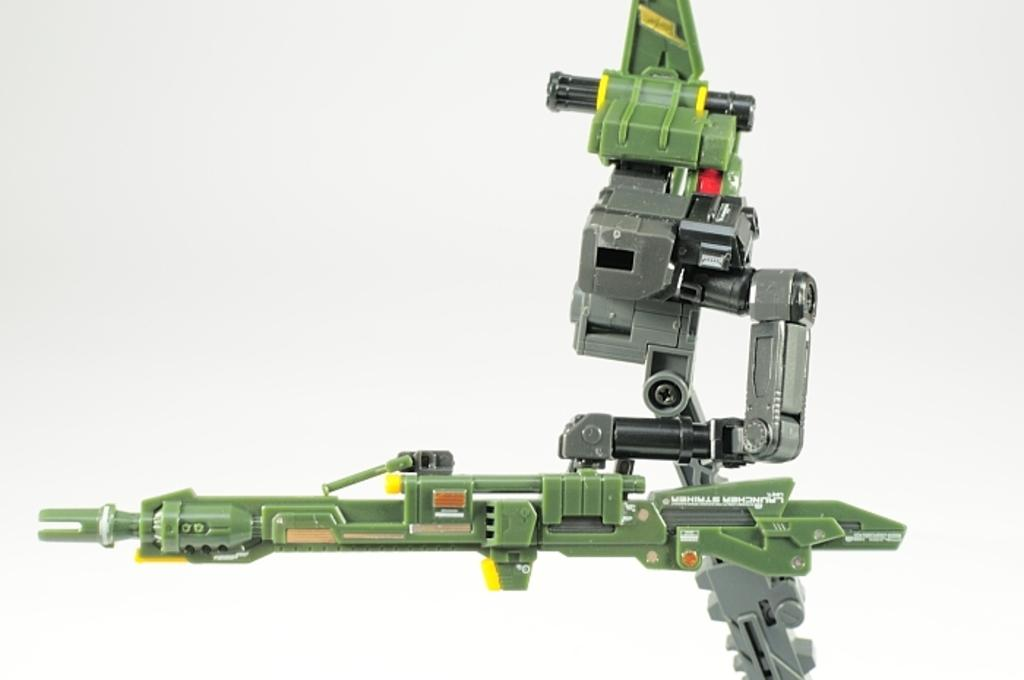Rifle: (37, 0, 907, 680)
